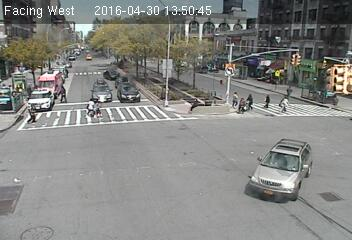neg: (281, 139, 309, 177), (156, 142, 184, 179), (67, 159, 95, 195), (6, 179, 29, 210), (315, 181, 338, 212), (207, 170, 229, 198), (157, 195, 178, 224), (85, 11, 106, 39), (253, 176, 274, 203), (4, 73, 24, 100), (96, 169, 113, 193), (326, 84, 343, 107), (29, 27, 46, 49), (209, 58, 225, 79), (299, 62, 315, 83), (185, 95, 200, 115), (39, 116, 54, 135), (147, 76, 161, 95), (139, 32, 153, 51), (317, 27, 331, 46), (269, 53, 283, 71), (106, 126, 120, 144)
pos: (55, 79, 74, 105), (259, 88, 275, 110), (230, 88, 243, 107), (27, 105, 40, 122), (281, 95, 293, 112), (244, 90, 256, 107), (85, 96, 97, 112)
